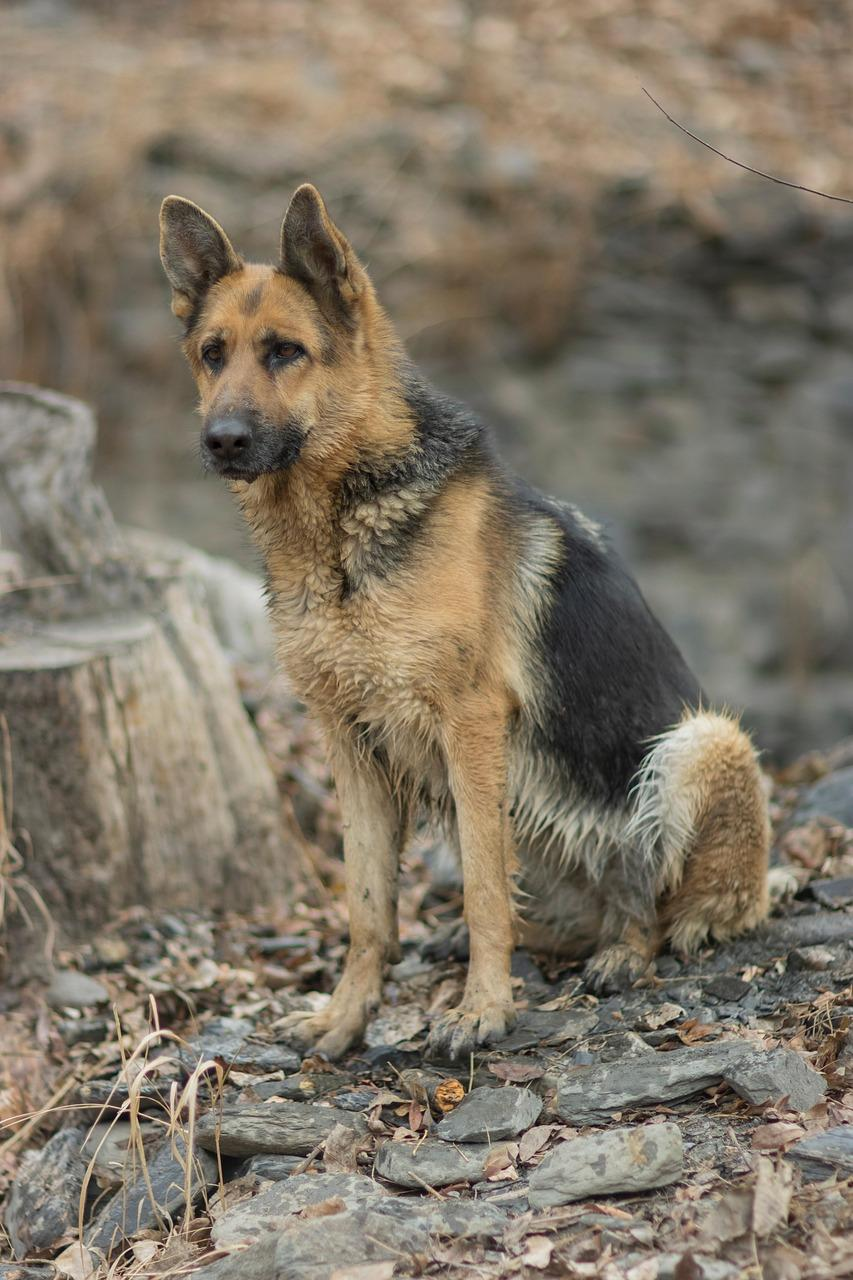german_shepherd: (156, 172, 359, 505)
